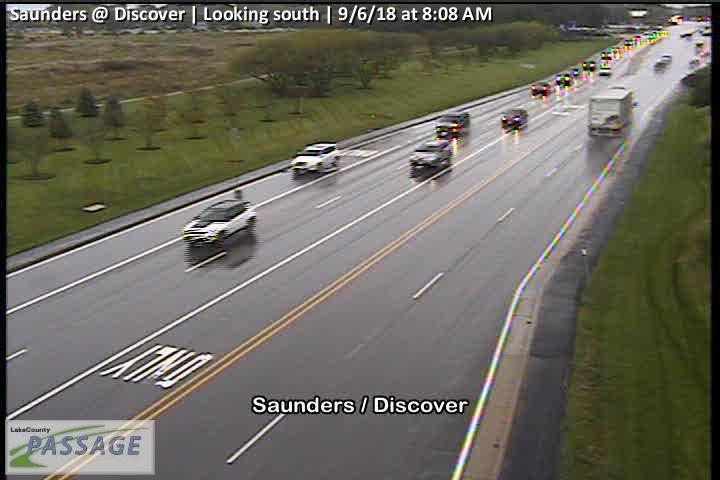SUV: (180, 199, 256, 251), (291, 141, 340, 177), (430, 108, 471, 139)
Sedan: (410, 139, 455, 169), (500, 108, 528, 129), (528, 78, 552, 96)
Truck: (585, 84, 636, 136)
